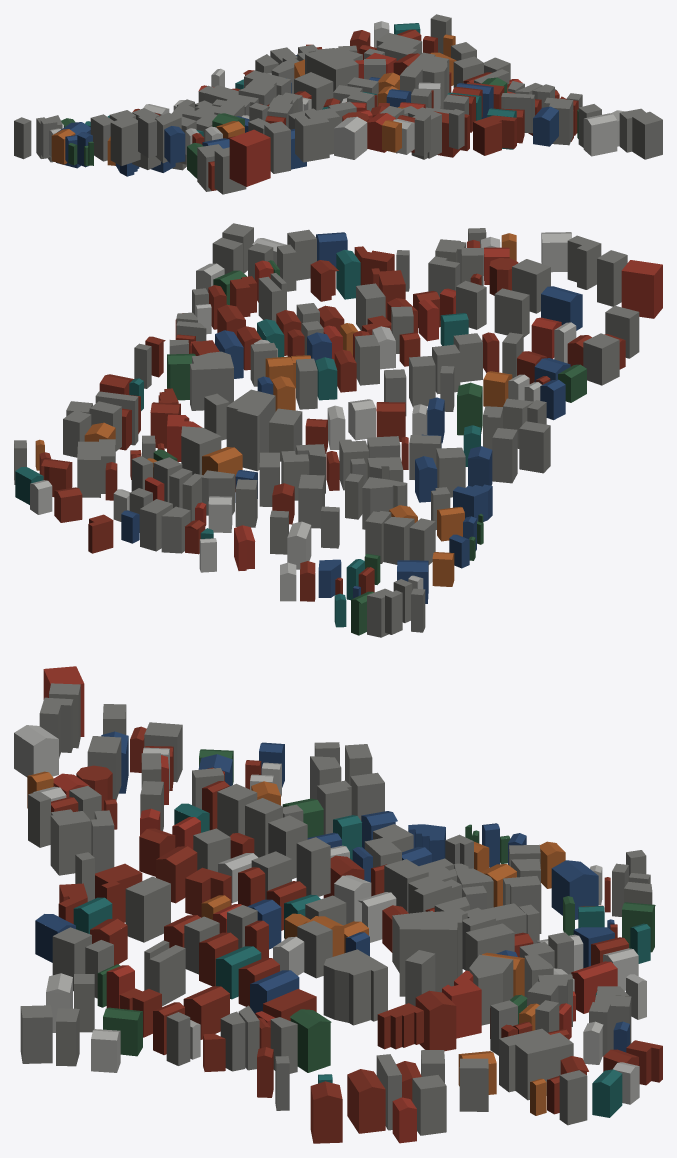
The model's file is near-17-109441-59479.eb7a6e84.glb.
3 renders of one model, top to bottom at view 1: azimuth 30°, elevation 25°; view 2: azimuth 150°, elevation 25°; view 3: azimuth 270°, elevation 25°, orthographic. The views are drawn at different scales.
Bounding box in the file's own units: 308 × 134 × 311.
